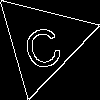C: (18, 16, 65, 72)
